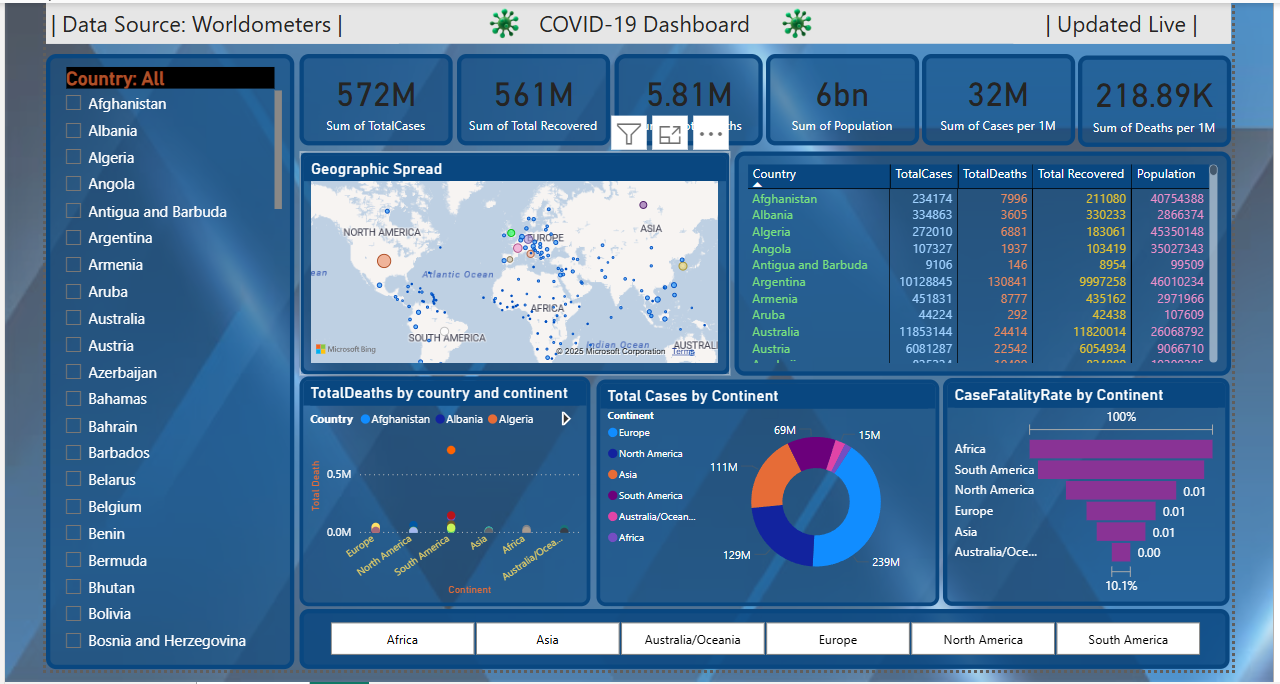

This screenshot's page, from the dashboard's own definition file:
{"tool":"powerbi","page":{"name":"Page 1","canvas":[1280,720],"ordinal":0},"visuals":[{"type":"textbox","box":[0,0,1279.2,43.7],"z":0},{"type":"card","fields":{"Values":["Sum(Table 1.TotalCases)"]},"box":[274,55.1,165.2,98.8],"z":1000},{"type":"card","fields":{"Values":["Sum(Table 1.TotalDeaths)"]},"box":[613,55.1,160.3,98.8],"z":2000},{"type":"card","fields":{"Values":["Sum(Table 1.Total Recovered)"]},"box":[444,55.1,165.2,98.8],"z":3000},{"type":"card","fields":{"Values":["Sum(Table 1.Population)"]},"box":[777,55.1,165.2,98.8],"z":4000},{"type":"card","fields":{"Values":["Sum(Table 1.Cases per 1M)"]},"box":[945,55.1,165.2,98.8],"z":5000},{"type":"tableEx","fields":{"Values":["Table 1.Country","Table 1.TotalCases","Table 1.TotalDeaths","Table 1.Total Recovered","Table 1.Population"]},"box":[743.2,160.3,536,242],"z":6000},{"type":"map","title":"Geographic Spread","fields":{"Category":["Table 1.Country"],"Size":["Sum(Table 1.TotalCases)"]},"box":[273.6,160.3,465,241.3],"z":7000},{"type":"donutChart","title":"Total Cases by Continent","fields":{"Category":["Table 1.Continent"],"Y":["Sum(Table 1.TotalCases)"]},"box":[594.3,406.4,370,244.5],"z":8000},{"type":"slicer","fields":{"Values":["Table 1.Country"]},"box":[0,55,268,663.9],"z":9000},{"type":"slicer","fields":{"Values":["Table 1.Continent"]},"box":[273.6,654.2,1003.9,64.8],"z":10000},{"type":"image","box":[430.7,0,59.9,43.7],"z":11000},{"type":"image","box":[816.1,0,43.7,43.7],"z":12000},{"type":"textbox","box":[1044.4,0,233.2,43.7],"z":13000},{"type":"textbox","box":[0,0,380.5,43.7],"z":14000},{"type":"areaChart","title":" TotalDeaths by country and continent","fields":{"Category":["Table 1.Continent"],"Y":["Sum(Table 1.TotalDeaths)"],"Series":["Table 1.Country"]},"box":[273.6,403.2,314.1,247.7],"z":15000},{"type":"card","fields":{"Values":["Sum(Table 1.Deaths per 1M)"]},"box":[1114,56.7,165.2,98.8],"z":16000},{"type":"funnel","fields":{"Category":["Table 1.Continent"],"Y":["Table 1.CaseFatalityRate"]},"box":[968.3,404.8,309.3,246.1],"z":16001}]}

Visuals, with their boxes on the page's 1280x720 design canvas (x1, y1, x2, y2). These are canvas units, not pixel positions in the 1280x684 screenshot, which may show the page scaled, cropped or inside an application window:
textbox: {"left": 0, "top": 0, "right": 1279, "bottom": 44}
card - Sum(Table 1.TotalCases): {"left": 274, "top": 55, "right": 439, "bottom": 154}
card - Sum(Table 1.TotalDeaths): {"left": 613, "top": 55, "right": 773, "bottom": 154}
card - Sum(Table 1.Total Recovered): {"left": 444, "top": 55, "right": 609, "bottom": 154}
card - Sum(Table 1.Population): {"left": 777, "top": 55, "right": 942, "bottom": 154}
card - Sum(Table 1.Cases per 1M): {"left": 945, "top": 55, "right": 1110, "bottom": 154}
tableEx - Table 1.Country x Table 1.TotalCases: {"left": 743, "top": 160, "right": 1279, "bottom": 402}
"Geographic Spread" map: {"left": 274, "top": 160, "right": 739, "bottom": 402}
"Total Cases by Continent" donutChart: {"left": 594, "top": 406, "right": 964, "bottom": 651}
slicer - Table 1.Country: {"left": 0, "top": 55, "right": 268, "bottom": 719}
slicer - Table 1.Continent: {"left": 274, "top": 654, "right": 1278, "bottom": 719}
image: {"left": 431, "top": 0, "right": 491, "bottom": 44}
image: {"left": 816, "top": 0, "right": 860, "bottom": 44}
textbox: {"left": 1044, "top": 0, "right": 1278, "bottom": 44}
textbox: {"left": 0, "top": 0, "right": 380, "bottom": 44}
" TotalDeaths by country and continent" areaChart: {"left": 274, "top": 403, "right": 588, "bottom": 651}
card - Sum(Table 1.Deaths per 1M): {"left": 1114, "top": 57, "right": 1279, "bottom": 156}
funnel - Table 1.Continent x Table 1.CaseFatalityRate: {"left": 968, "top": 405, "right": 1278, "bottom": 651}
